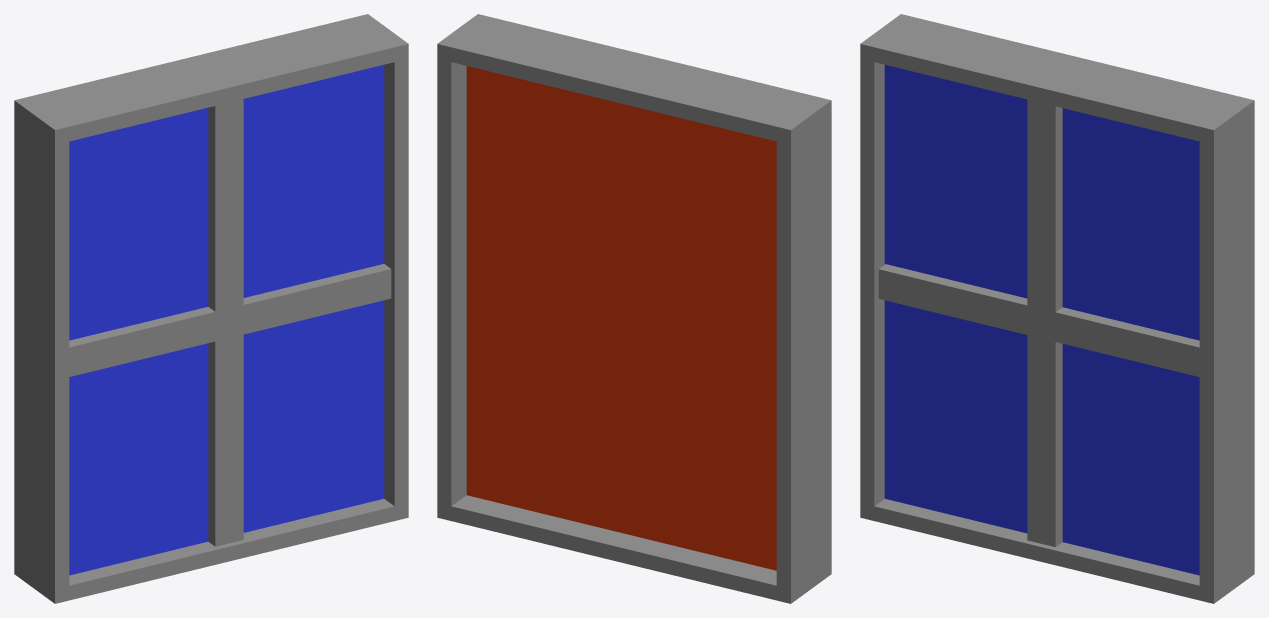
Rendered from Window.FBX.
3 renders of one model, left to right at view 1: azimuth 30°, elevation 25°; view 2: azimuth 150°, elevation 25°; view 3: azimuth 330°, elevation 25°, orthographic.
Parts seen in each view (by area): view 1: Glass, Box001; view 2: backing, Box001; view 3: Glass, Box001.
Part boxes in pixels (x1,y1,x2,y2): Glass: (69,65,384,575); Box001: (14,14,408,603); backing: (466,66,776,570); Box001: (437,14,831,603); Glass: (884,65,1199,575); Box001: (860,14,1254,603).
Size of the model in its own units: 12.5 by 16 by 2.5.
